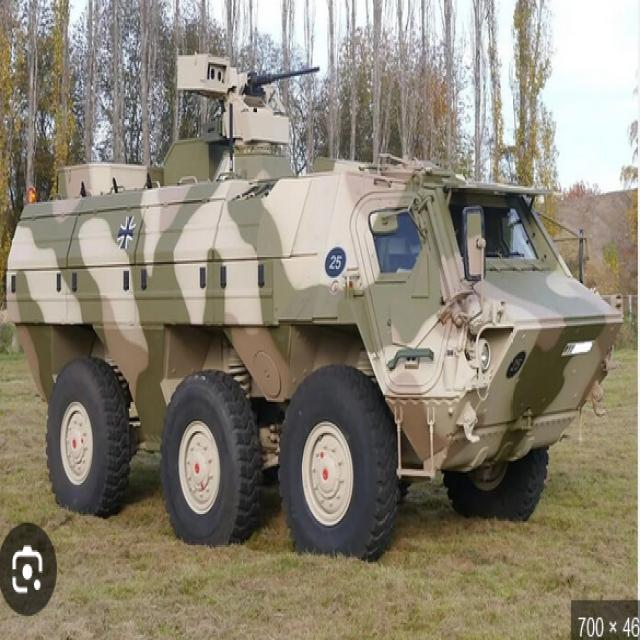MIL_APC: (10, 124, 625, 546)
